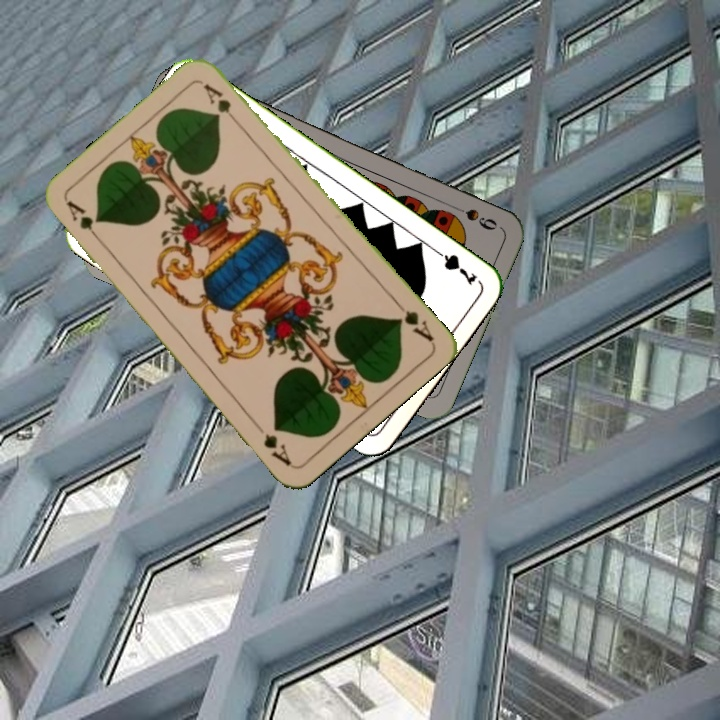G7: (428, 244, 480, 289)
GA: (390, 296, 437, 344), (63, 196, 106, 247)
S9: (445, 199, 500, 233)
